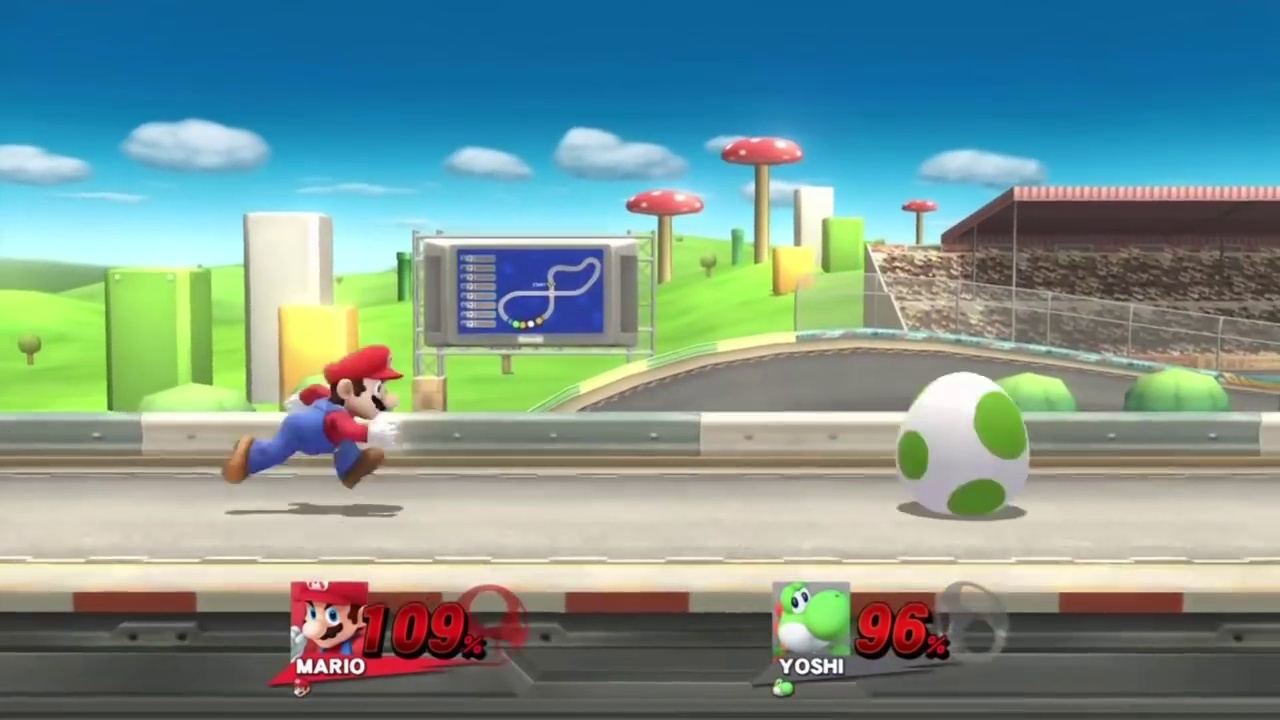Mario: (224, 345, 400, 488)
